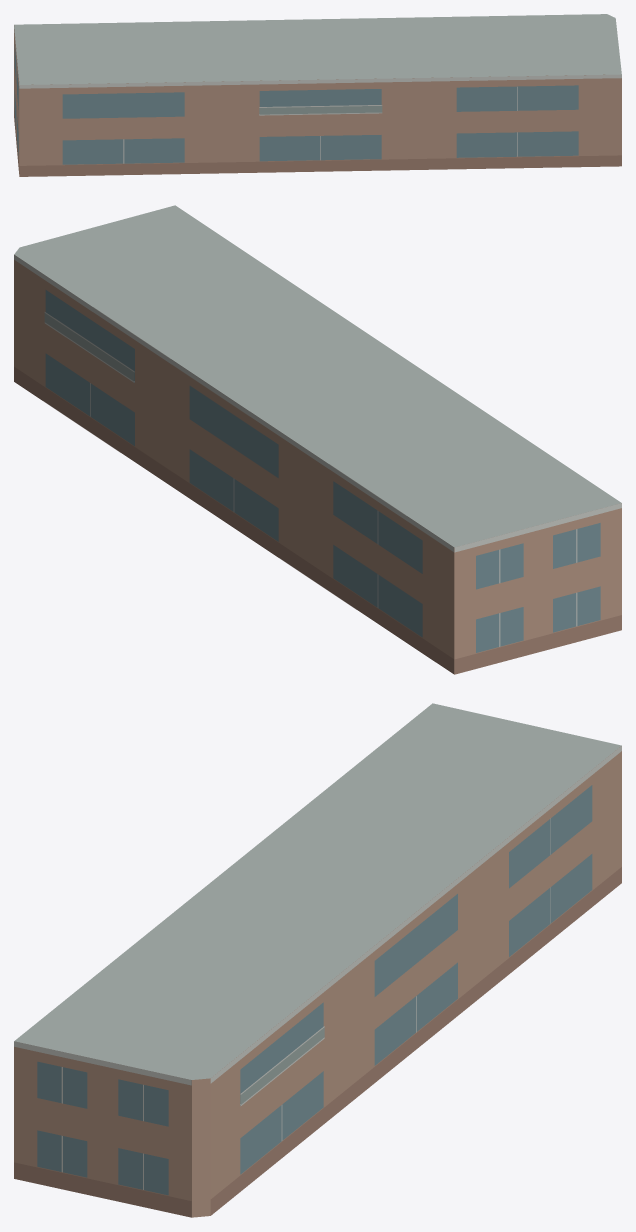
The model's file is survey-upis-32491910.glb.
3 views of the same model, one above another, from view 1: azimuth 30°, elevation 25°; view 2: azimuth 150°, elevation 25°; view 3: azimuth 270°, elevation 25° (orthographic). The views are drawn at different scales.
Parts seen in each view (by area): view 1: survey-upis-32491910.tmp; view 2: survey-upis-32491910.tmp; view 3: survey-upis-32491910.tmp.
Part boxes in pixels (left/top/right/bottom): survey-upis-32491910.tmp: left=14, top=14, right=621, bottom=176; survey-upis-32491910.tmp: left=14, top=205, right=621, bottom=674; survey-upis-32491910.tmp: left=14, top=703, right=621, bottom=1217.
Bounding box in the file's own units: 35.84 × 6.1 × 24.43.
